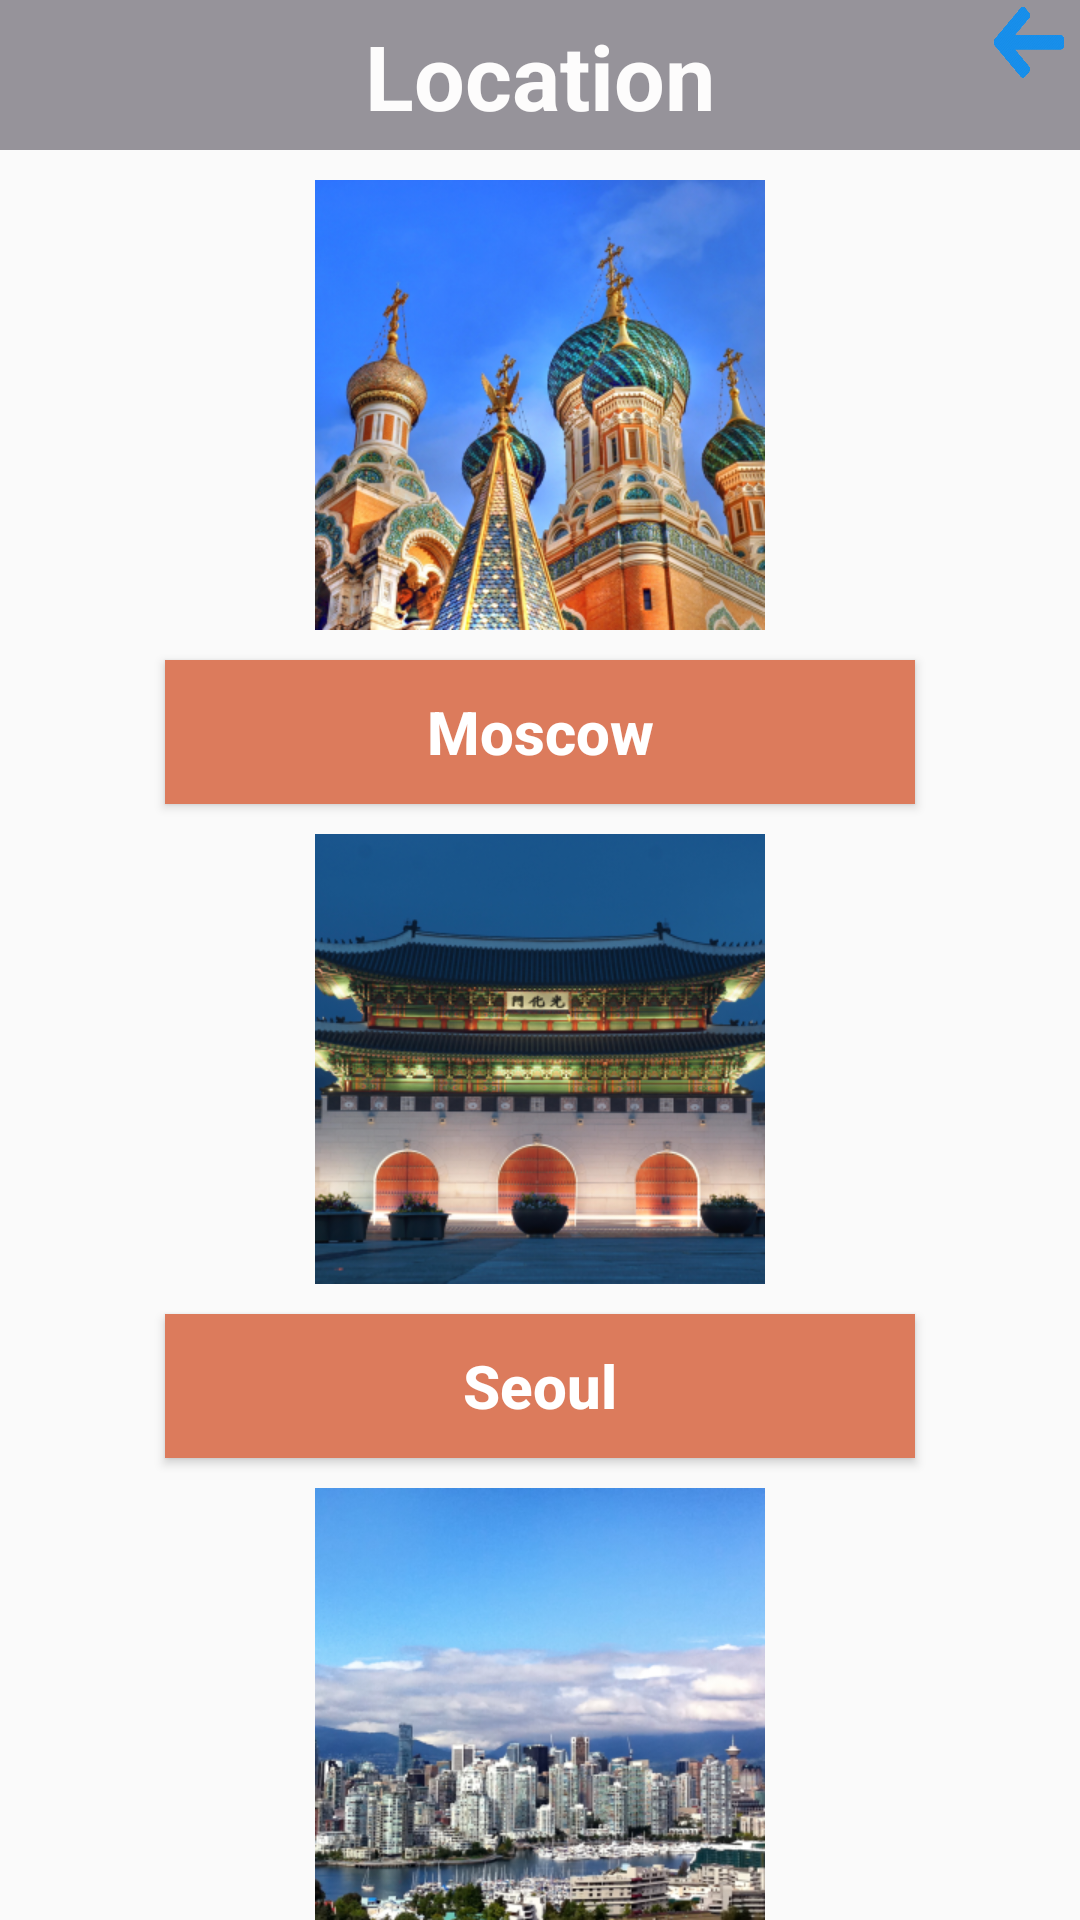

Named icons in this screenshot (1080px x 1920px) and their bounding boxes, bbox=[x1, y1, x2, y2]:
back: bbox=[994, 7, 1064, 78]
